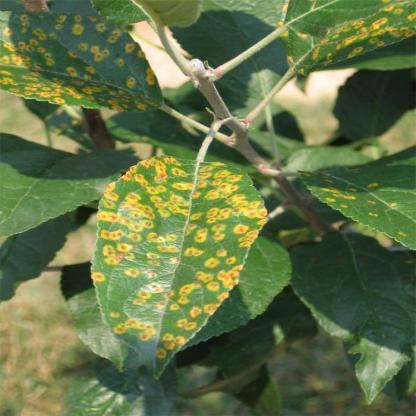Apple rust leaf: (86, 152, 266, 392), (1, 11, 182, 119), (280, 147, 415, 251), (267, 3, 415, 75)
